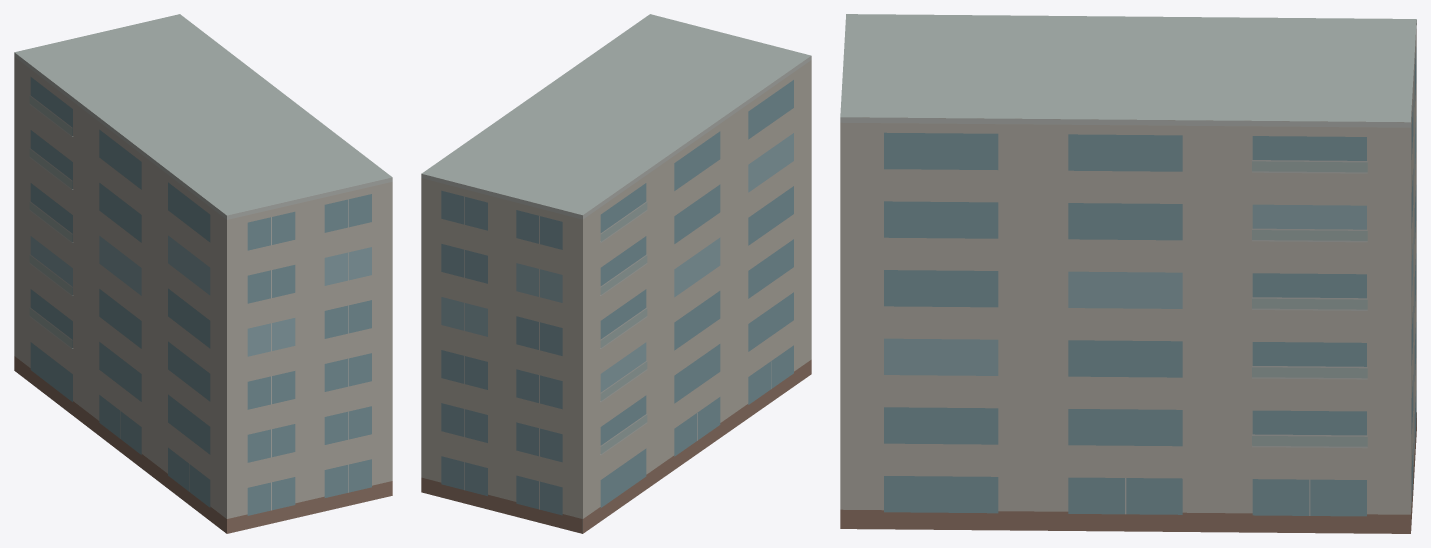
Rendered from survey-upis-32748832.glb.
The picture shows the model from 3 angles, left to right: view 1: azimuth 30°, elevation 25°; view 2: azimuth 150°, elevation 25°; view 3: azimuth 270°, elevation 25°; orthographic projection. The views are drawn at different scales.
Visible parts, largest first — view 1: survey-upis-32748832.tmp; view 2: survey-upis-32748832.tmp; view 3: survey-upis-32748832.tmp.
Boxes of the visible parts, <box> form: survey-upis-32748832.tmp: <box>14,14,392,533</box>; survey-upis-32748832.tmp: <box>421,14,811,533</box>; survey-upis-32748832.tmp: <box>840,14,1416,533</box>.
Size of the model in its own units: 10.12 by 17.95 by 22.79.
